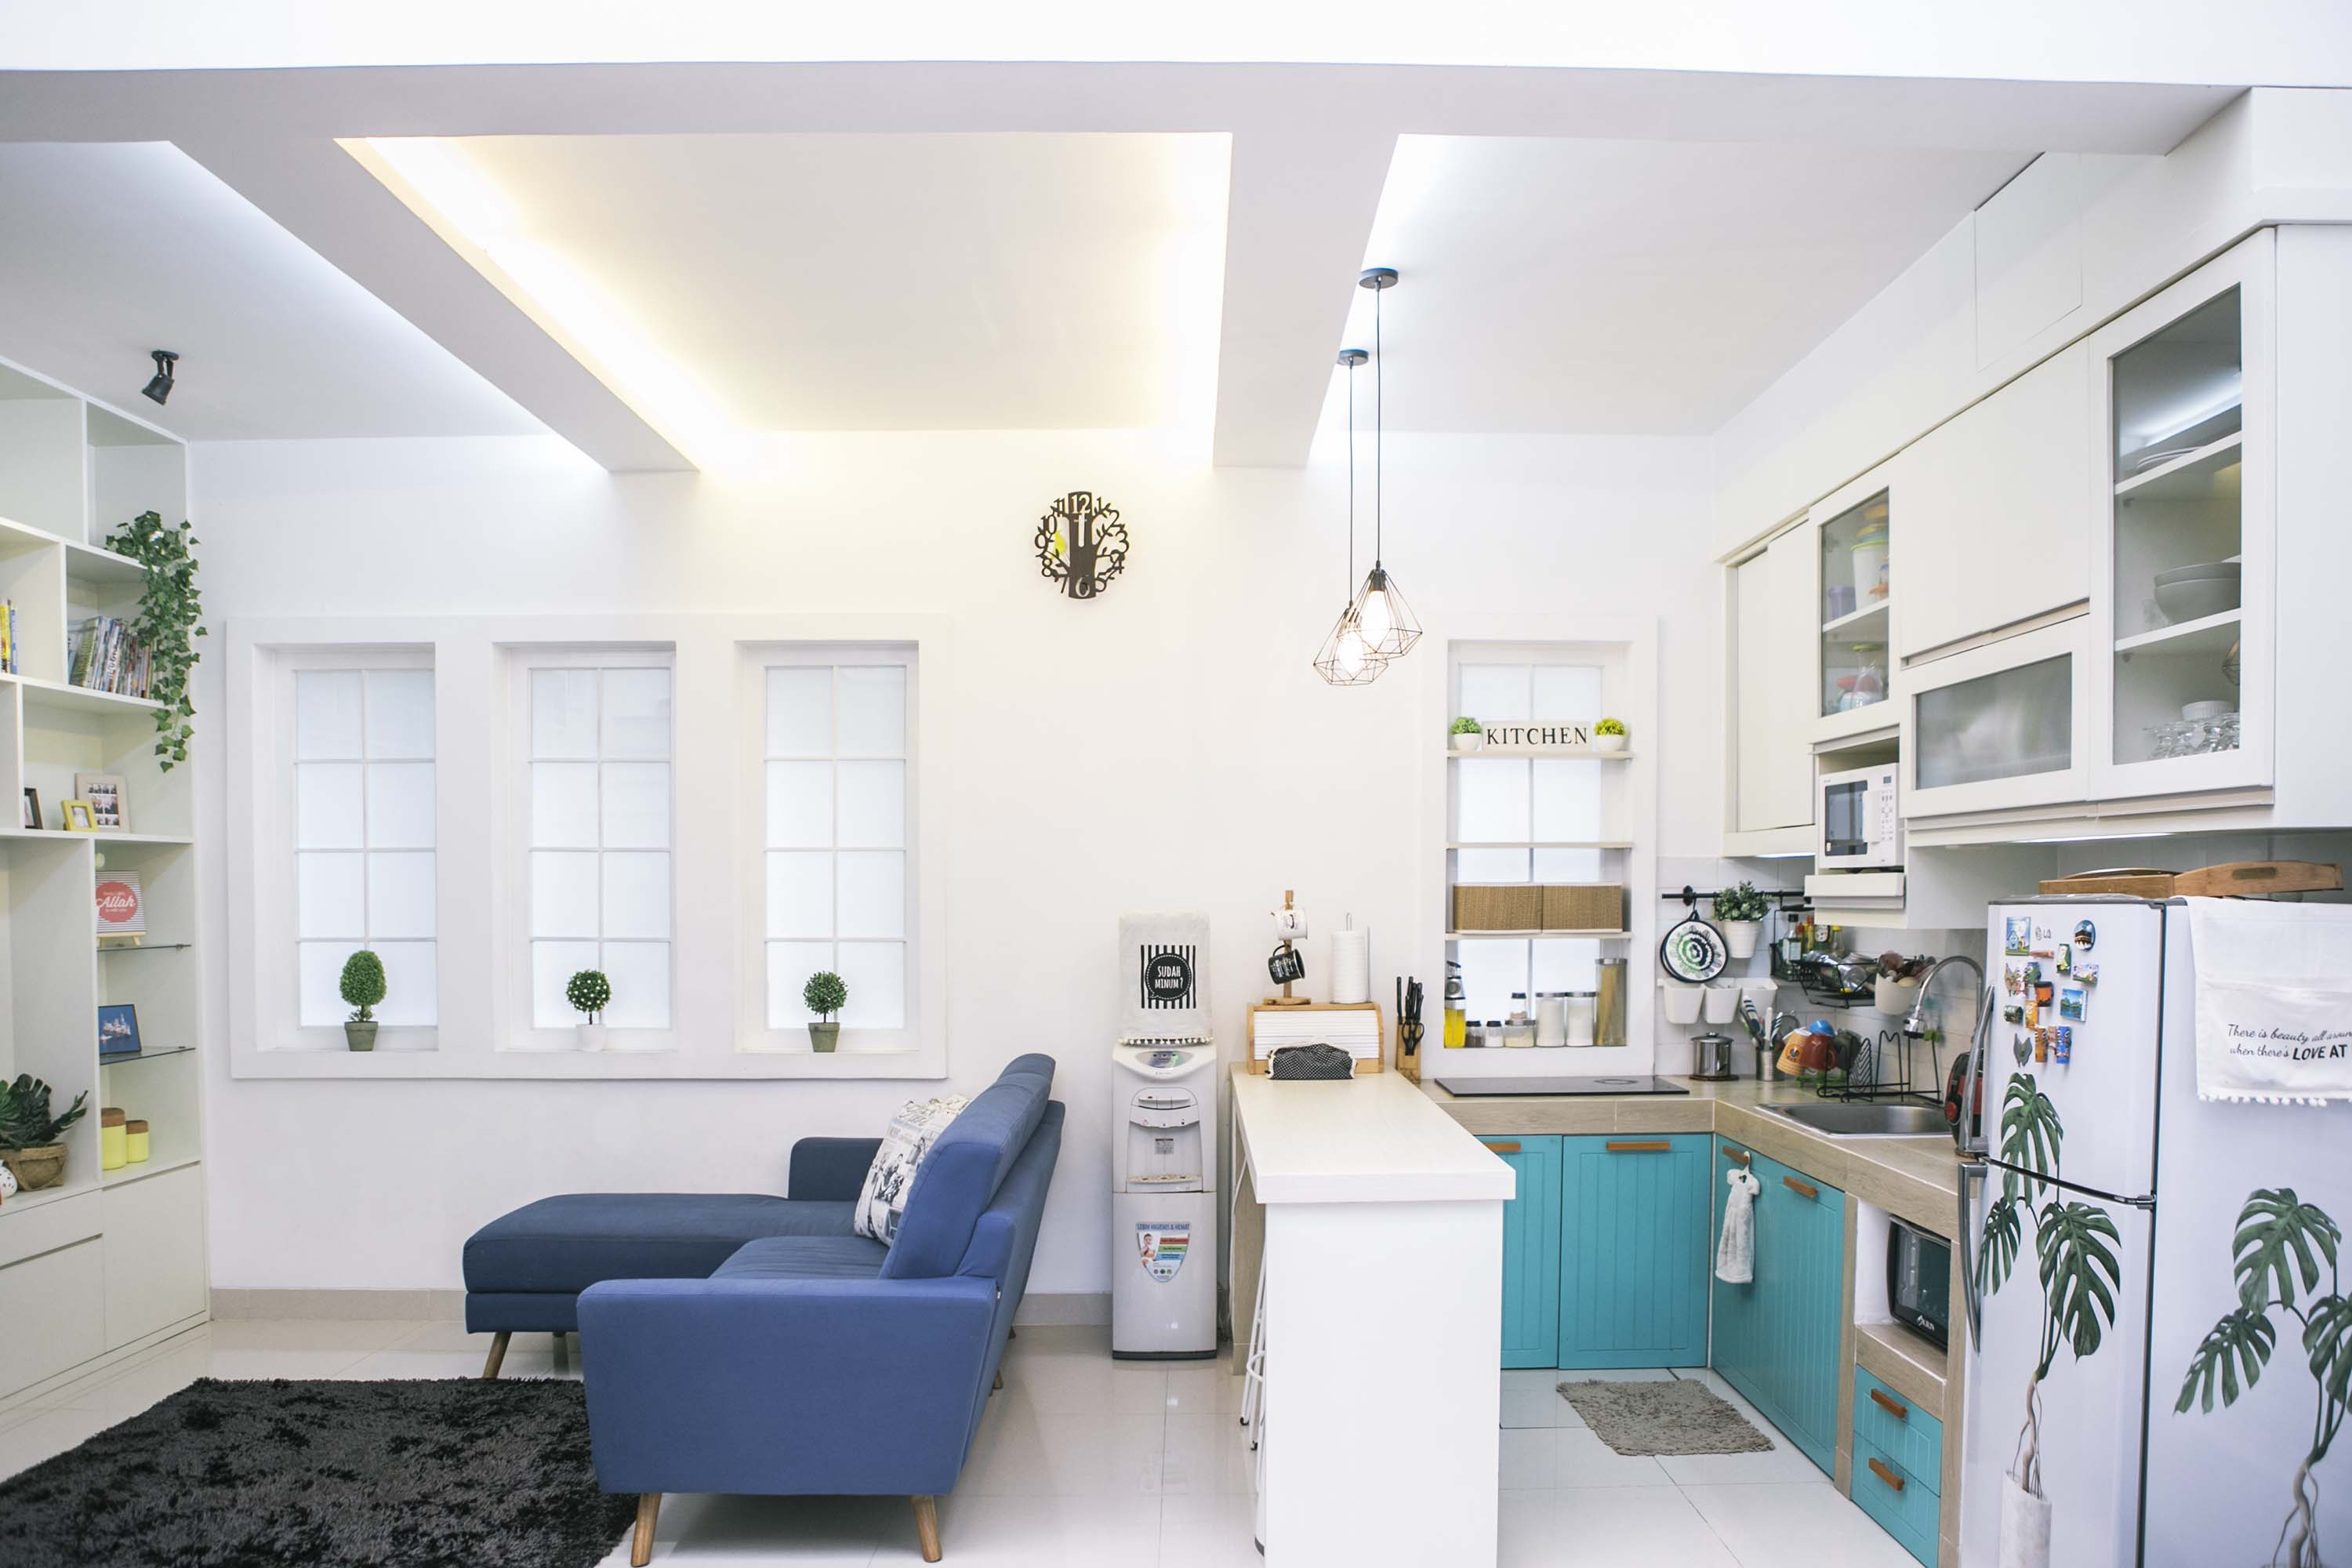bantal: (851, 1096, 941, 1239)
buku: (70, 604, 136, 695)
foto: (61, 768, 133, 840)
lampu: (1314, 296, 1404, 702), (1349, 264, 1437, 668)
meja: (1227, 1078, 1516, 1568)
sova: (481, 1059, 1069, 1556)
tanaman: (119, 507, 203, 766), (2, 1064, 77, 1186), (333, 957, 385, 1047), (801, 966, 854, 1055), (563, 966, 616, 1055), (1713, 880, 1766, 970)
